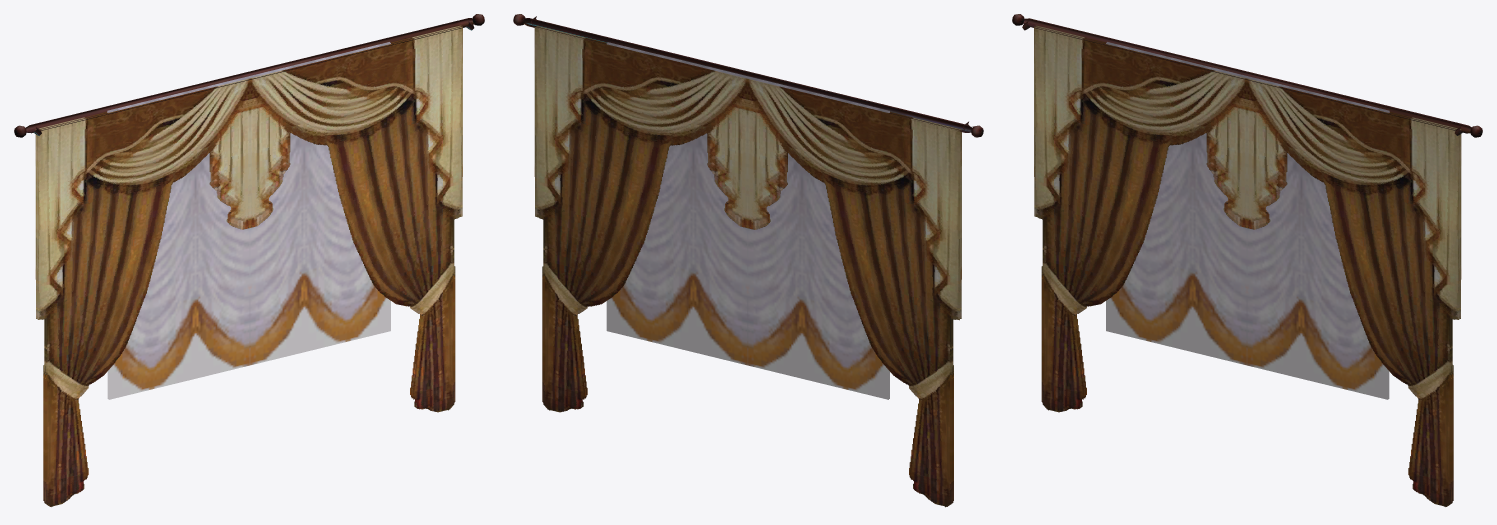
The model's file is furni_0201232.FBX.
The picture shows the model from 3 angles, left to right: view 1: azimuth 30°, elevation 25°; view 2: azimuth 150°, elevation 25°; view 3: azimuth 330°, elevation 25°; orthographic projection.
Visible parts, largest first — view 1: furni_0201232; view 2: furni_0201232; view 3: furni_0201232.
Part boxes in pixels (x1,y1,x2,y2): furni_0201232: (14, 14, 484, 506); furni_0201232: (513, 14, 983, 507); furni_0201232: (1012, 14, 1482, 506).
Size of the model in its own units: 353 by 279 by 12.24.
2 materials, 2 textured.
